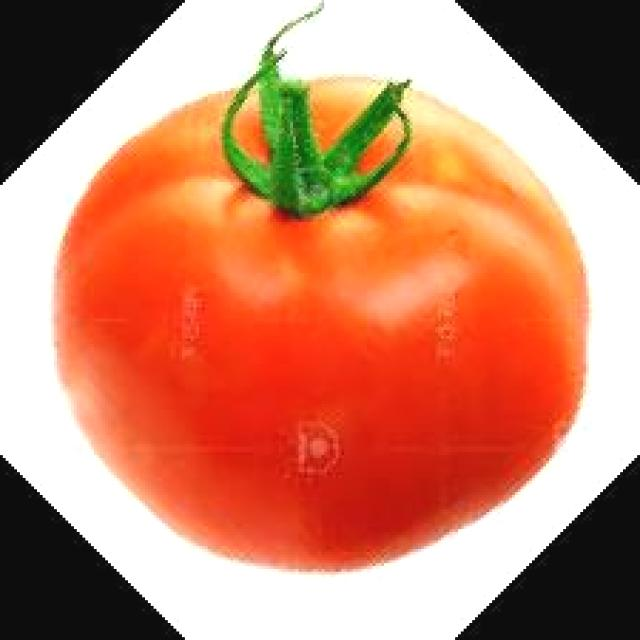tomato: (45, 69, 592, 581)
